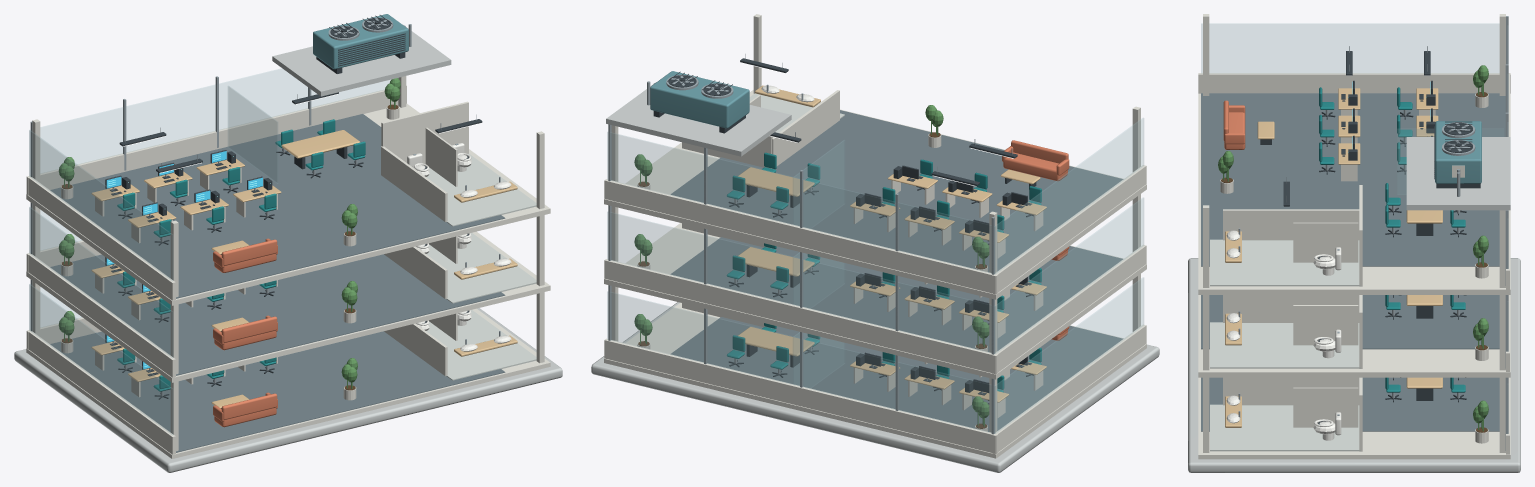
Rendered from office-building.glb.
3 views of the same model, side by side, from view 1: azimuth 30°, elevation 25°; view 2: azimuth 150°, elevation 25°; view 3: azimuth 270°, elevation 25° (orthographic). The views are drawn at different scales.
Visible parts, largest first — view 1: Office carpet.002, Office carpet.001, Office carpet, Rear windows.002, Foundation, Left windows, Left windows.001, Left windows.002, Rear spandrel.002, Service roof, Floor slab.002, Floor slab.001 (+26 smaller); view 2: Office carpet.002, Rear windows, Rear windows.001, Rear windows.002, Office carpet, Office carpet.001, Foundation, Rear spandrel.002, Rear spandrel, Rear spandrel.001, Left windows.001, Left windows (+21 smaller); view 3: Office carpet.002, Left windows.002, Foundation, Office carpet.001, Office carpet, Floor slab.002, Floor slab.001, Floor slab, Left spandrel.002, Service roof, Bathroom tile.001, Bathroom tile (+26 smaller).
Part boxes in pixels (x1,y1,x2,y2): Office carpet.002: (50,114,505,298); Office carpet.001: (50,254,505,375); Office carpet: (50,331,505,452); Rear windows.002: (30,68,390,175); Foundation: (14,308,562,472); Left windows: (29,284,173,434); Left windows.001: (29,207,173,357); Left windows.002: (29,130,173,280); Rear spandrel.002: (26,85,406,195); Service roof: (272,24,451,96); Floor slab.002: (26,103,550,305); Floor slab.001: (26,231,550,382); Office carpet.002: (670,110,1123,272); Rear windows: (607,291,995,433); Rear windows.001: (607,211,995,353); Rear windows.002: (607,132,995,273); Office carpet: (670,317,1123,431); Office carpet.001: (670,237,1122,351); Foundation: (591,302,1159,472); Rear spandrel.002: (604,179,998,294); Rear spandrel: (604,338,998,453); Rear spandrel.001: (604,259,998,373); Left windows.001: (995,197,1143,353); Left windows: (995,277,1143,433); Office carpet.002: (1201,93,1505,266); Left windows.002: (1201,23,1499,73); Foundation: (1188,258,1520,472); Office carpet.001: (1201,295,1499,349); Office carpet: (1201,377,1499,431); Floor slab.002: (1198,93,1510,294); Floor slab.001: (1198,295,1510,377); Floor slab: (1198,377,1510,459); Left spandrel.002: (1198,73,1510,93); Service roof: (1406,137,1510,210); Bathroom tile.001: (1210,404,1360,451); Bathroom tile: (1210,239,1360,286).
Size of the model in its own units: 18.8 by 12.68 by 12.8.
